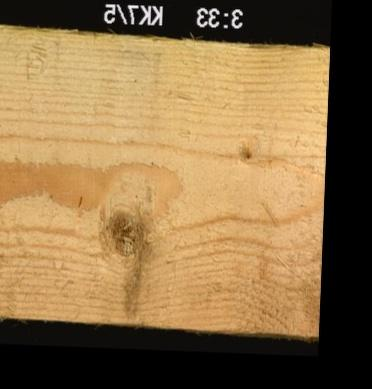small_knot: (234, 138, 254, 163)
